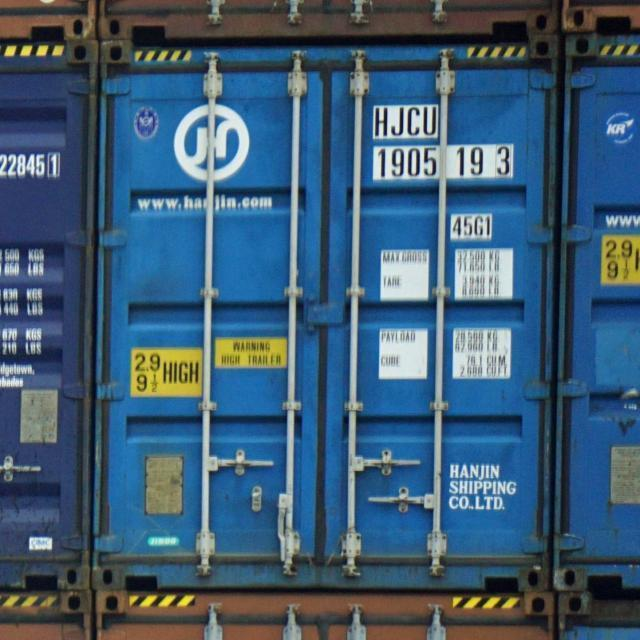ISO: (452, 216, 496, 240)
container_number: (372, 108, 515, 176)
